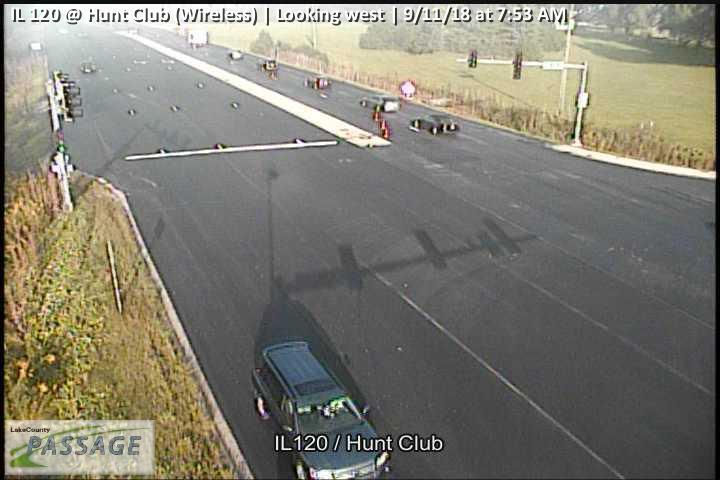SUV: (251, 339, 393, 480), (360, 92, 400, 113)
Sedan: (410, 114, 461, 135)
